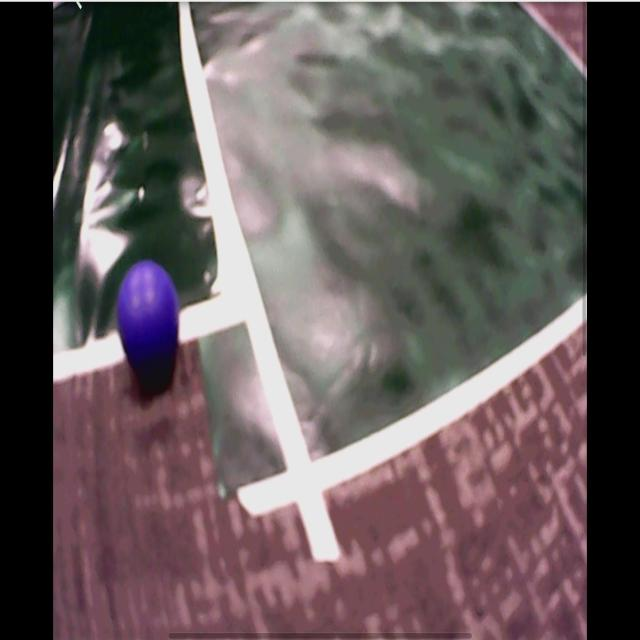ball: (118, 264, 181, 369)
